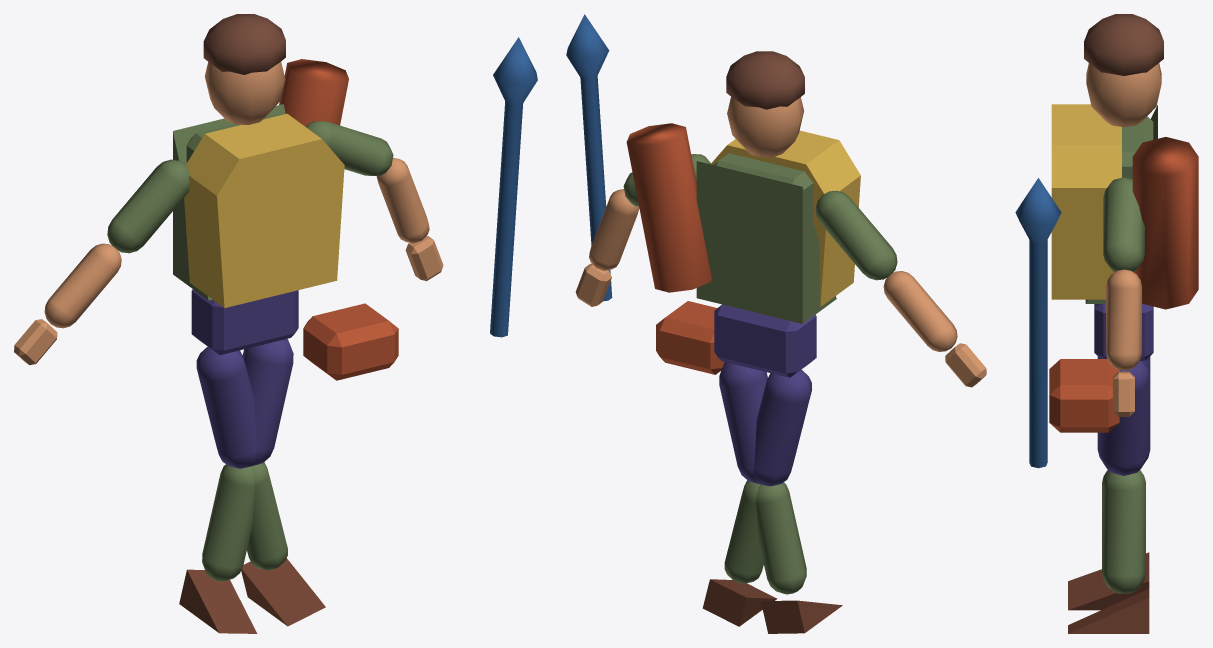
The model's file is adventurer.rustic.glb.
3 views of the same model, side by side, from view 1: azimuth 30°, elevation 25°; view 2: azimuth 150°, elevation 25°; view 3: azimuth 270°, elevation 25° (orthographic). The views are drawn at different scales.
Visible parts, largest first — view 1: accessory.body, accessory.main-hand, accessory.waist, thigh.left, pelvis, shin.right, upper-arm.left, hair, thigh.right, accessory.back, head, forearm.left (+8 smaller); view 2: tunic, accessory.back, accessory.body, pelvis, thigh.left, accessory.main-hand, shin.right, upper-arm.left, hair, accessory.waist, thigh.right, head (+8 smaller); view 3: accessory.body, accessory.back, accessory.main-hand, shin.left, accessory.waist, hair, head, thigh.right, forearm.right, upper-arm.right, foot.left, foot.right (+3 smaller).
Part boxes in pixels (x1=…): accessory.body: x1=184, y1=113, x2=344, y2=308; accessory.main-hand: x1=490, y1=37, x2=537, y2=337; accessory.waist: x1=303, y1=303, x2=398, y2=380; thigh.left: x1=196, y1=346, x2=256, y2=468; pelvis: x1=191, y1=289, x2=298, y2=354; shin.right: x1=202, y1=464, x2=254, y2=581; upper-arm.left: x1=107, y1=159, x2=189, y2=253; hair: x1=203, y1=14, x2=285, y2=74; thigh.right: x1=242, y1=339, x2=293, y2=465; accessory.back: x1=279, y1=59, x2=348, y2=126; head: x1=204, y1=61, x2=285, y2=124; forearm.left: x1=44, y1=243, x2=121, y2=328; tunic: x1=696, y1=161, x2=836, y2=323; accessory.back: x1=626, y1=123, x2=711, y2=292; accessory.body: x1=711, y1=130, x2=860, y2=306; pelvis: x1=714, y1=304, x2=816, y2=377; thigh.left: x1=754, y1=369, x2=811, y2=486; accessory.main-hand: x1=566, y1=14, x2=612, y2=301; shin.right: x1=756, y1=482, x2=806, y2=594; upper-arm.left: x1=815, y1=190, x2=897, y2=280; hair: x1=726, y1=51, x2=804, y2=109; accessory.waist: x1=656, y1=301, x2=724, y2=374; thigh.right: x1=719, y1=362, x2=767, y2=483; head: x1=727, y1=97, x2=803, y2=157; accessory.body: x1=1051, y1=104, x2=1121, y2=299; accessory.back: x1=1132, y1=137, x2=1198, y2=309; accessory.main-hand: x1=1015, y1=178, x2=1061, y2=468; shin.left: x1=1102, y1=471, x2=1145, y2=593; accessory.waist: x1=1049, y1=359, x2=1119, y2=432; hair: x1=1084, y1=14, x2=1163, y2=75; head: x1=1086, y1=63, x2=1161, y2=127; thigh.right: x1=1097, y1=361, x2=1150, y2=475; forearm.right: x1=1106, y1=269, x2=1141, y2=370; upper-arm.right: x1=1103, y1=177, x2=1144, y2=272; foot.left: x1=1068, y1=589, x2=1149, y2=633; foot.right: x1=1068, y1=552, x2=1149, y2=610.
Bounding box in the file's own units: 2.54 × 3.01 × 0.8353.
